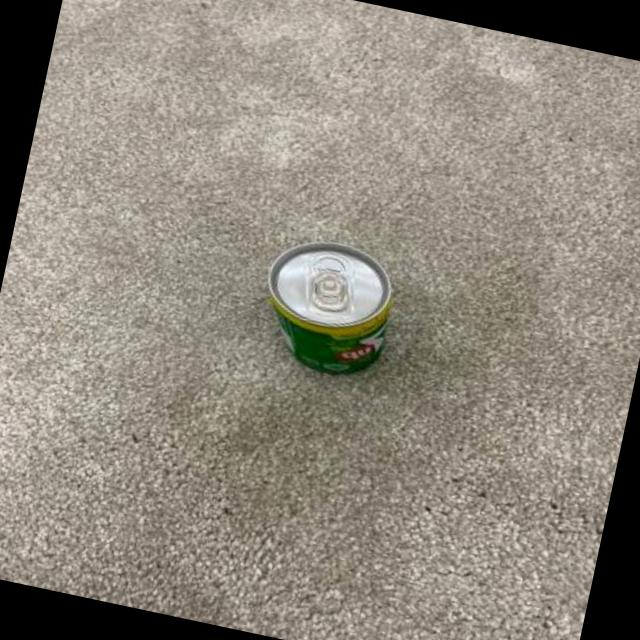metal: (265, 240, 388, 371)
